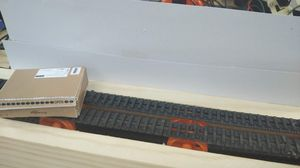box2: (0, 63, 92, 119)
